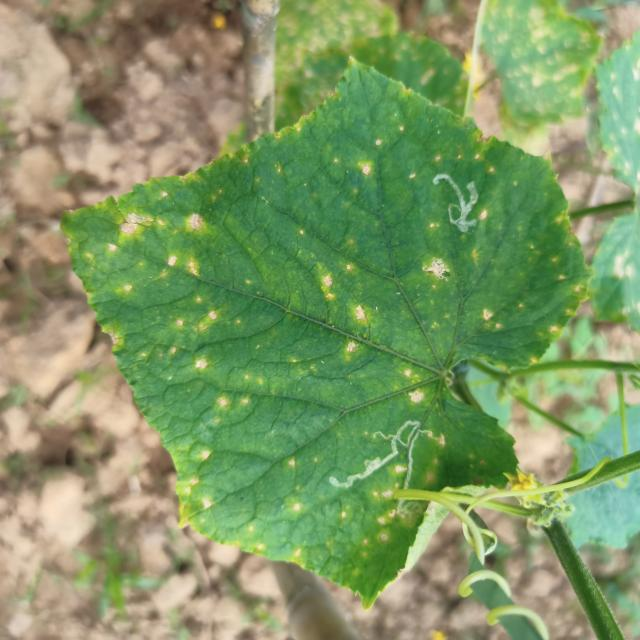disease_cucumber: (88, 149, 280, 526), (350, 118, 572, 342), (264, 363, 449, 584), (300, 237, 382, 371)
